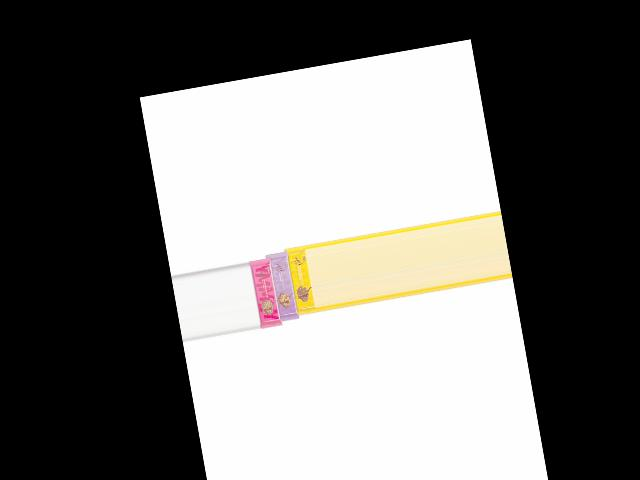chocolate: (247, 254, 282, 333)
